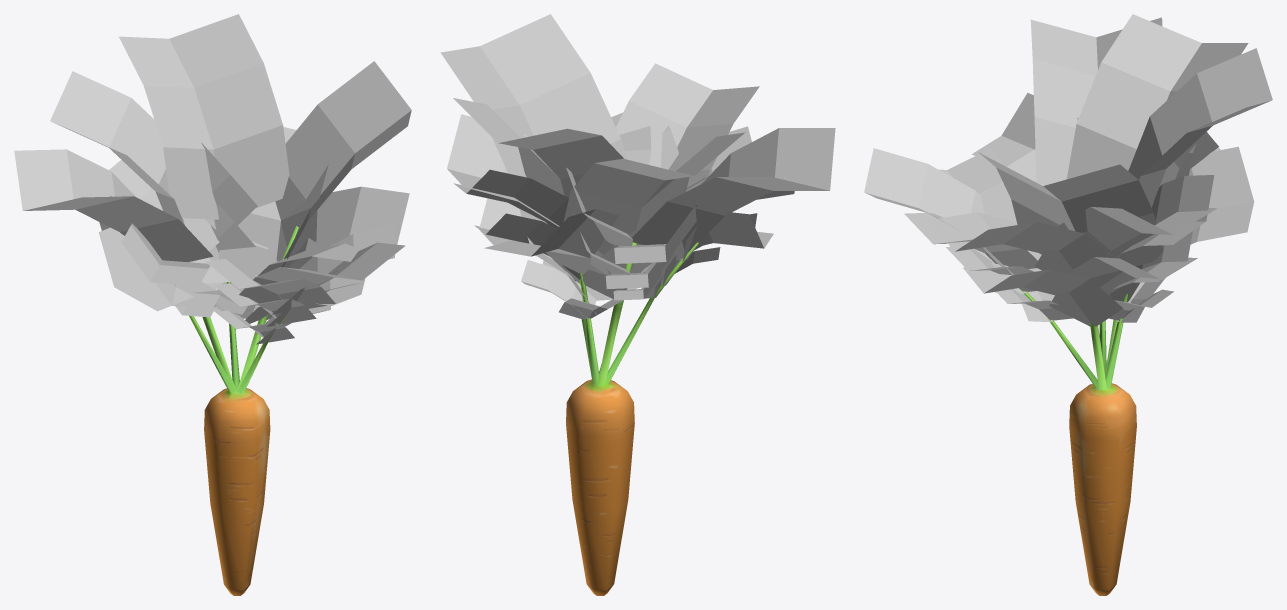
Rendered from GoldenCarrot.fbx.
The picture shows the model from 3 angles, left to right: view 1: azimuth 30°, elevation 25°; view 2: azimuth 150°, elevation 25°; view 3: azimuth 270°, elevation 25°; orthographic projection. The views are drawn at different scales.
Parts seen in each view (by area): view 1: leaf_01.002, carrot; view 2: leaf_01.002, carrot; view 3: leaf_01.002, carrot.
Boxes of the visible parts, x1=… form: leaf_01.002: x1=14, y1=14, x2=411, y2=344; carrot: x1=189, y1=226, x2=298, y2=595; leaf_01.002: x1=440, y1=14, x2=835, y2=324; carrot: x1=566, y1=242, x2=698, y2=595; leaf_01.002: x1=864, y1=14, x2=1272, y2=326; carrot: x1=1019, y1=288, x2=1136, y2=595.
Size of the model in its own units: 28.01 by 37.76 by 26.71.
